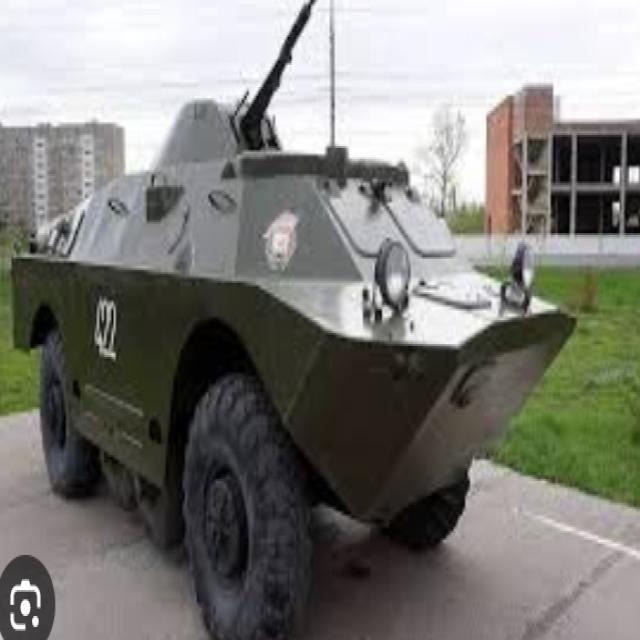MIL_APC: (3, 89, 580, 640)
